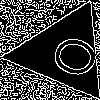O: (38, 27, 100, 83)
